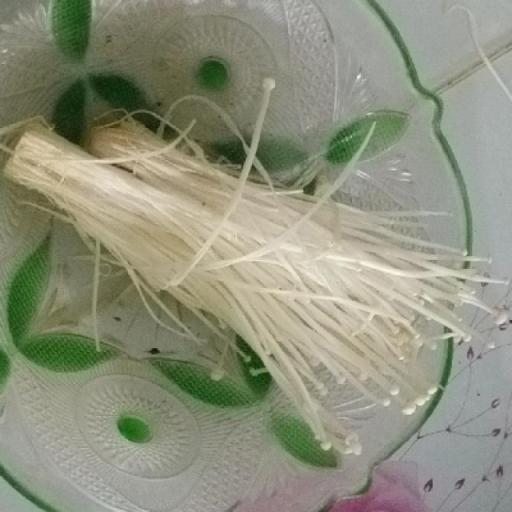Enoki Mushroom: (4, 112, 510, 455)
